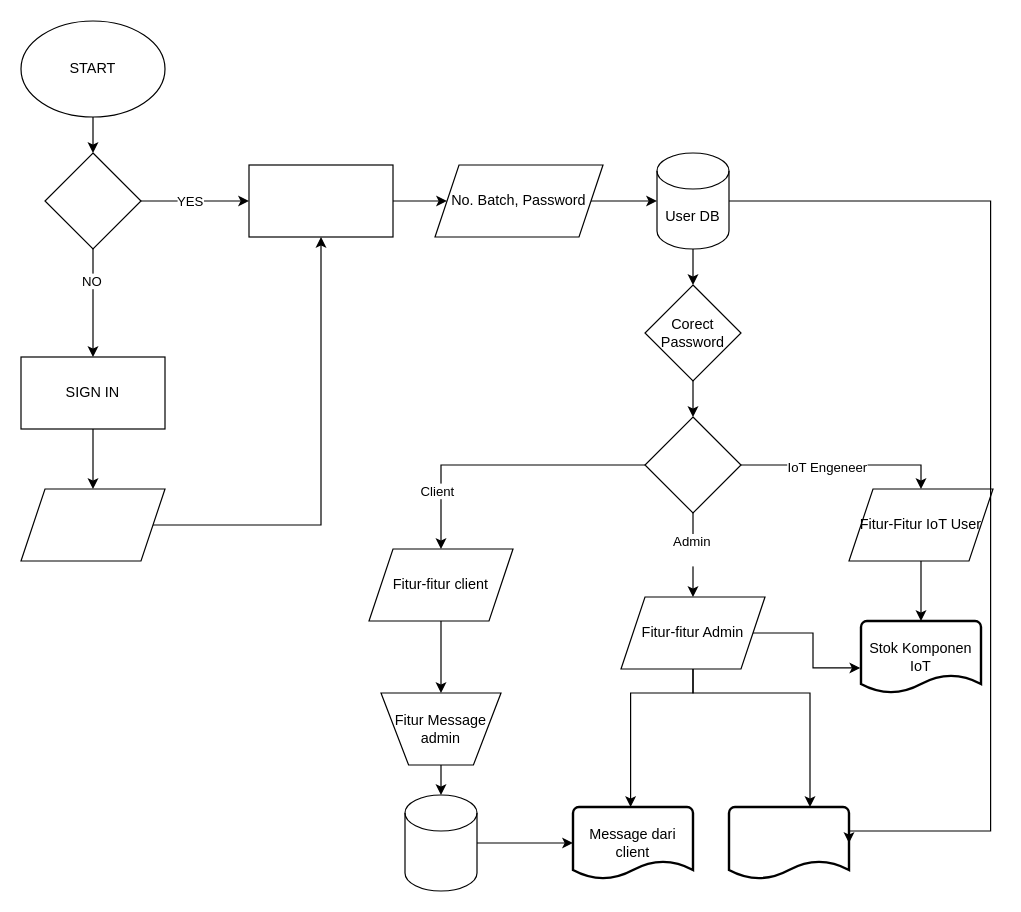
Image size: 1021x912. Some labels were removed from this diagram. The box of each missing label's shape, as (x1, y1, x2, y2) in pixels:
Data-data User: (727, 805, 850, 880)
DO YOU HAVE AN ACCOUNT ?: (44, 152, 141, 249)
LOGIN: (248, 164, 393, 237)
Message DB: (404, 794, 477, 891)
No Batch, Email, Password: (20, 488, 165, 561)
What Batch ?: (644, 416, 741, 513)
